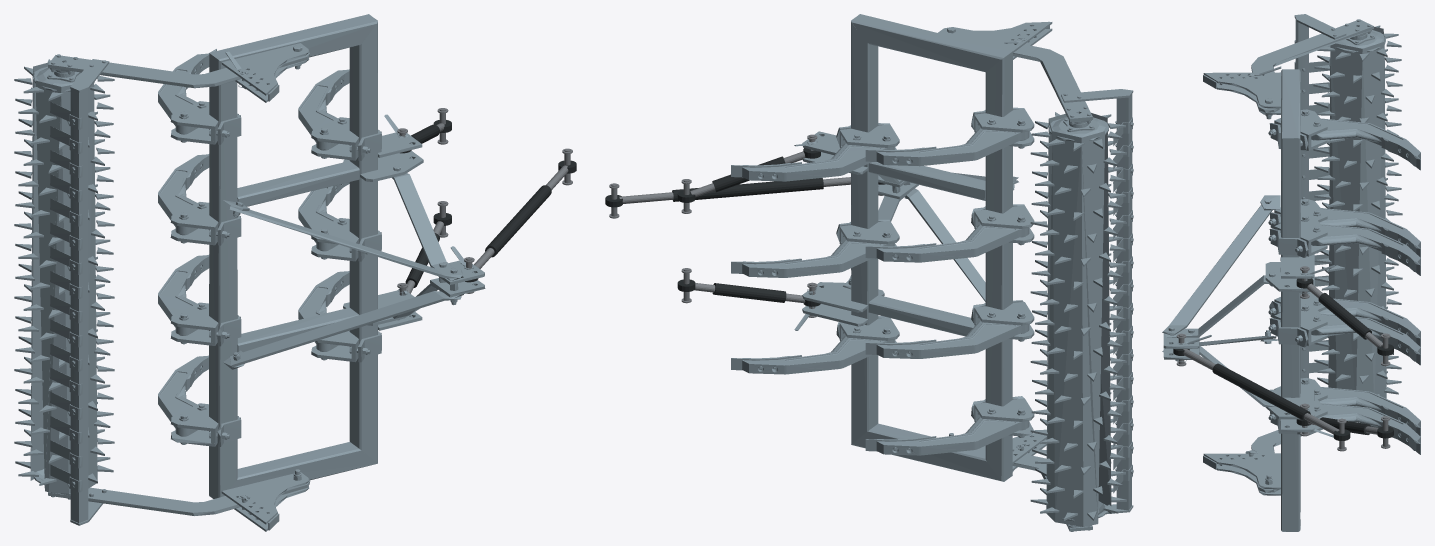
File: implement_compact_chisel_plow_visual.obj
The picture shows the model from 3 angles, left to right: view 1: azimuth 30°, elevation 25°; view 2: azimuth 150°, elevation 25°; view 3: azimuth 270°, elevation 25°; orthographic projection. The views are drawn at different scales.
Visible parts, largest first — view 1: solid_218, solid_17, solid_11, solid_215, solid_10, solid_9, solid_27, solid_18, solid_214, solid_213, solid_22, solid_20 (+18 smaller); view 2: solid_218, solid_11, solid_17, solid_10, solid_215, solid_97, solid_197, solid_47, solid_147, solid_122, solid_172, solid_72 (+20 smaller); view 3: solid_218, solid_17, solid_4, solid_214, solid_22, solid_20, solid_47, solid_72, solid_215, solid_10, solid_197, solid_97 (+33 smaller).
Part boxes in pixels (x1,y1,x2,y2): solid_218: (30, 62, 97, 493); solid_17: (349, 19, 377, 463); solid_11: (209, 53, 237, 498); solid_215: (70, 89, 88, 522); solid_10: (209, 14, 377, 61); solid_9: (209, 442, 377, 496); solid_27: (230, 291, 461, 367); solid_18: (237, 161, 359, 206); solid_214: (48, 52, 310, 88); solid_213: (48, 480, 310, 515); solid_22: (221, 472, 309, 524); solid_20: (221, 43, 309, 95); solid_218: (1046, 113, 1111, 526); solid_11: (985, 51, 1012, 481); solid_17: (851, 14, 878, 444); solid_10: (851, 14, 1012, 72); solid_215: (1116, 94, 1132, 510); solid_97: (876, 224, 1029, 262); solid_197: (876, 417, 1029, 455); solid_47: (876, 127, 1029, 166); solid_147: (876, 320, 1029, 358); solid_122: (742, 239, 894, 277); solid_172: (742, 336, 894, 374); solid_72: (742, 143, 894, 181); solid_218: (1328, 27, 1386, 406); solid_17: (1281, 138, 1300, 531); solid_4: (1162, 205, 1272, 335); solid_214: (1251, 19, 1373, 112); solid_22: (1203, 453, 1280, 489); solid_20: (1203, 72, 1280, 108); solid_47: (1311, 118, 1420, 159); solid_72: (1311, 224, 1420, 264); solid_215: (1295, 19, 1308, 378); solid_10: (1281, 69, 1300, 138); solid_197: (1319, 387, 1420, 427); solid_97: (1319, 208, 1420, 248).
Size of the model in its own units: 2.83 by 2.26 by 1.31.
